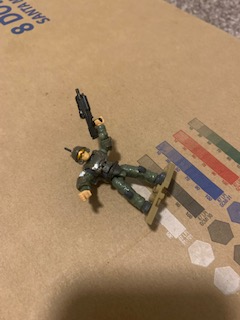soldier: (63, 88, 168, 217)
